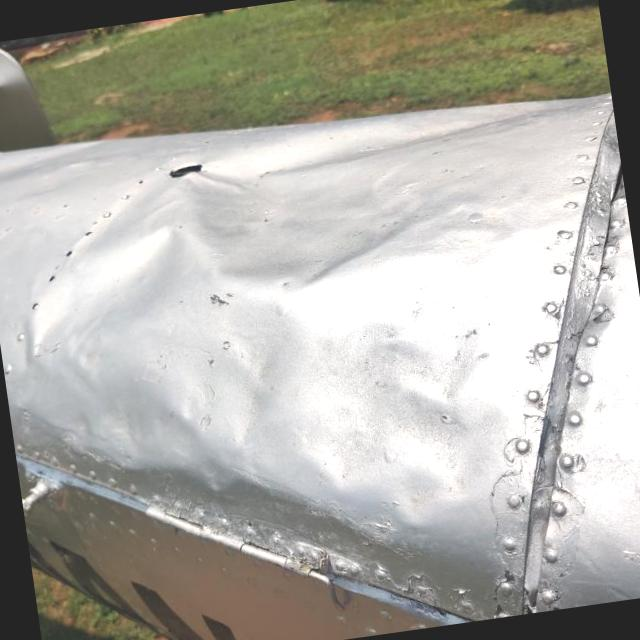dent: (278, 256, 526, 537), (152, 125, 486, 328), (0, 183, 203, 383), (224, 95, 541, 196), (22, 336, 210, 504), (178, 316, 285, 458)
